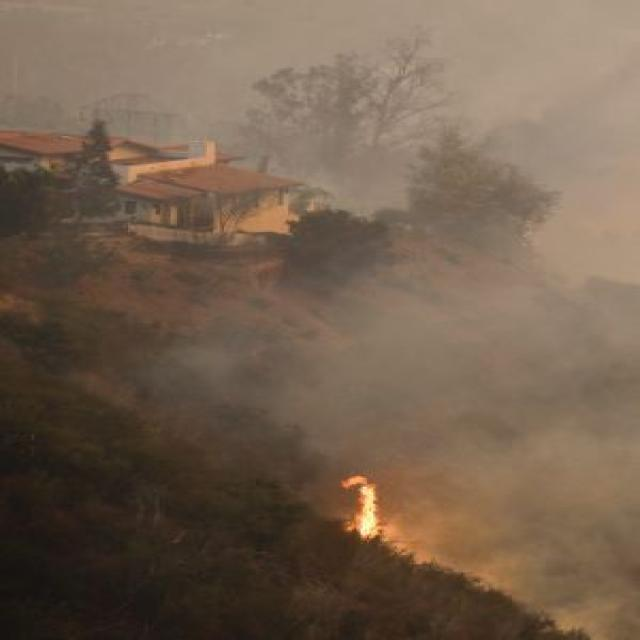Fire: (334, 468, 395, 547)
Smoke: (126, 0, 640, 518), (348, 421, 640, 639)
